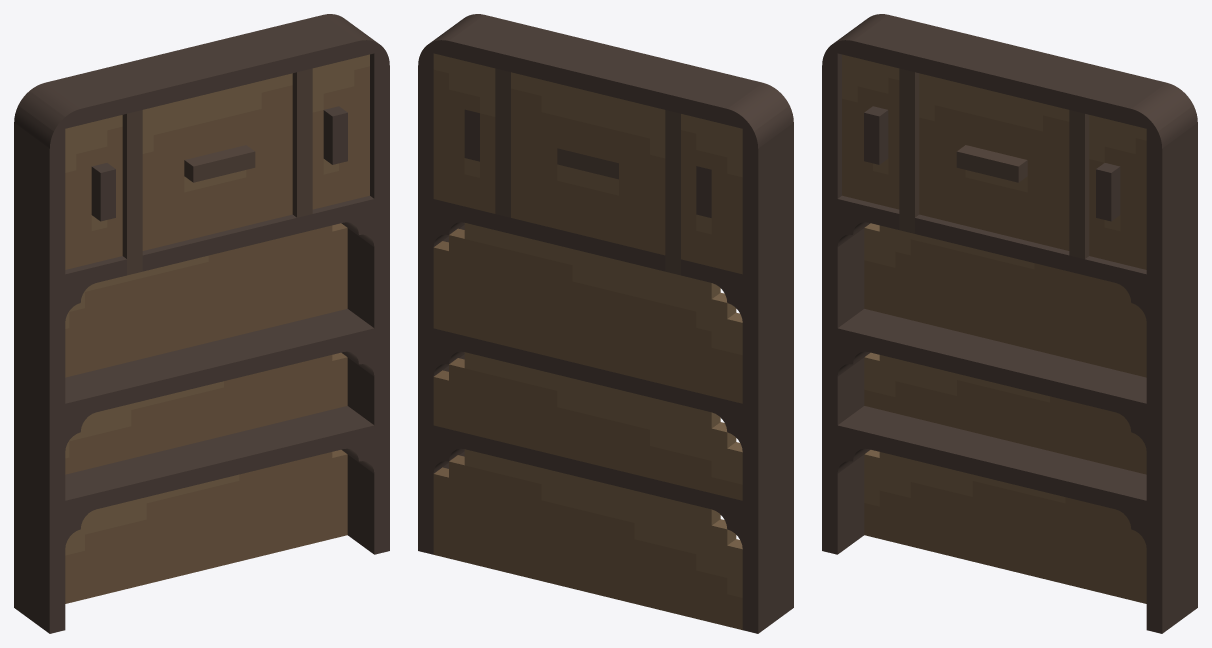
Rendered from wardrobe.glb.
The picture shows the model from 3 angles, left to right: view 1: azimuth 30°, elevation 25°; view 2: azimuth 150°, elevation 25°; view 3: azimuth 330°, elevation 25°; orthographic projection.
Parts seen in each view (by area): view 1: generated(Clone); view 2: generated(Clone); view 3: generated(Clone).
Part boxes in pixels (<box>): generated(Clone): <box>14,14,389,633</box>; generated(Clone): <box>418,14,793,633</box>; generated(Clone): <box>822,14,1197,633</box>.
Bounding box in the file's own units: 11 × 16 × 2.25.
Materials: 1 (1 with a texture image).
